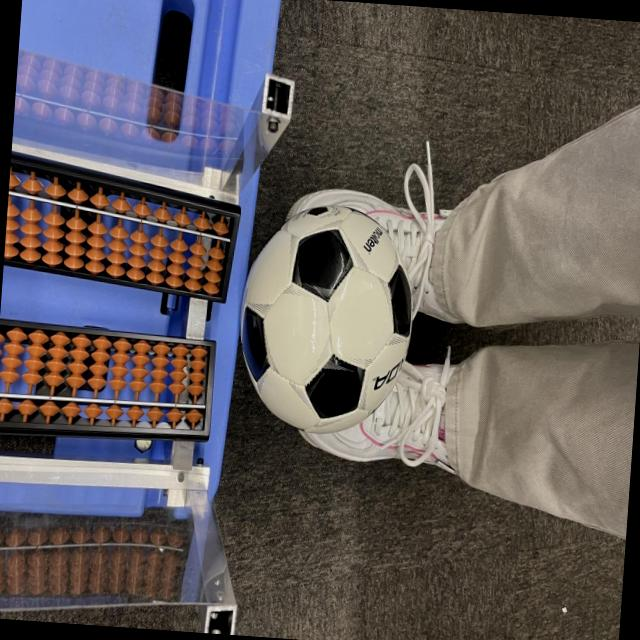Soccer Ball: (231, 200, 416, 438)
